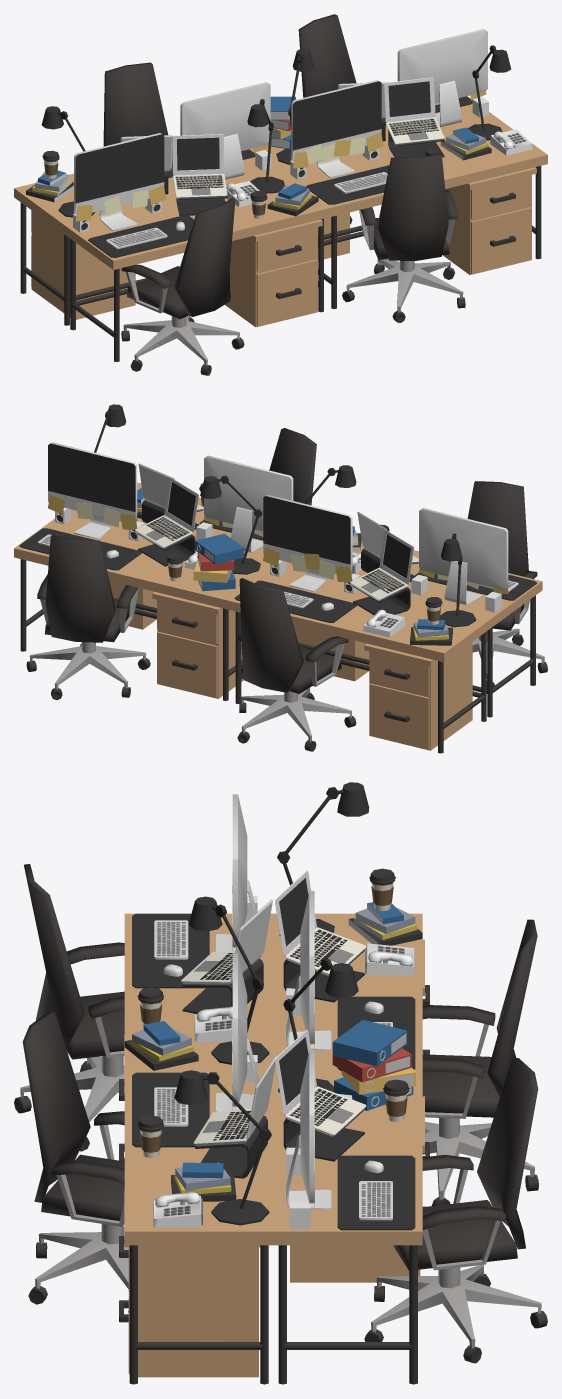
Rendered from Group_desk_05.FBX.
3 renders of one model, top to bottom at view 1: azimuth 30°, elevation 25°; view 2: azimuth 150°, elevation 25°; view 3: azimuth 270°, elevation 25°, orthographic. The views are drawn at different scales.
Parts seen in each view (by area): view 1: drawer03 (×4), chair_02, chair_01, desk_01, drawer02 (×2), desk_02, monitor_01, monitor_02, monitor_03, monitor_04, chair_04, notebook01 (×2) (+17 smaller); view 2: chair_03, chair_04, drawer03 (×4), desk_04, desk_03, drawer02 (×2), monitor_01, monitor_03, monitor_04, chair_01, monitor_02, notebook01 (×4) (+14 smaller); view 3: drawer03 (×2), chair_03, chair_02, desk_02, desk_03, chair_04, chair_01, desk_01, desk_04, notebook02 (×4), notebook01 (×4), file books_01 (+25 smaller).
Boxes of the visible parts, box(x1,y1,x2,y2) form: drawer03 (×4): box(31, 167, 536, 327); chair_02: box(342, 154, 465, 322); chair_01: box(121, 198, 244, 375); desk_01: box(63, 171, 330, 361); drawer02 (×2): box(256, 207, 531, 326); desk_02: box(281, 118, 547, 308); monitor_01: box(74, 133, 164, 230); monitor_02: box(291, 80, 381, 177); monitor_03: box(397, 29, 487, 126); monitor_04: box(180, 82, 270, 179); chair_04: box(103, 62, 168, 146); notebook01 (×2): box(172, 77, 435, 175); chair_03: box(26, 535, 150, 699); chair_04: box(237, 578, 356, 751); drawer03 (×4): box(109, 580, 472, 750); desk_04: box(229, 567, 493, 753); desk_03: box(14, 514, 269, 700); drawer02 (×2): box(157, 631, 429, 749); monitor_01: box(419, 508, 508, 605); monitor_03: box(48, 442, 137, 539); monitor_04: box(263, 494, 352, 591); chair_01: box(467, 481, 547, 688); monitor_02: box(204, 455, 293, 552); notebook01 (×4): box(138, 463, 414, 584); drawer03 (×2): box(124, 1096, 424, 1377); chair_03: box(364, 1058, 547, 1363); chair_02: box(22, 1011, 128, 1312); desk_02: box(124, 1072, 273, 1384); desk_03: box(273, 1072, 422, 1384); chair_04: box(422, 919, 538, 1205); chair_01: box(14, 864, 124, 1151); desk_01: box(124, 913, 273, 1072); desk_04: box(273, 913, 422, 1072); notebook02 (×4): box(181, 927, 366, 1146); notebook01 (×4): box(230, 870, 316, 1139); file books_01: box(332, 1020, 415, 1110).
Bounding box in the file's own units: 335 × 144 × 236.
1 material, 1 textured.
